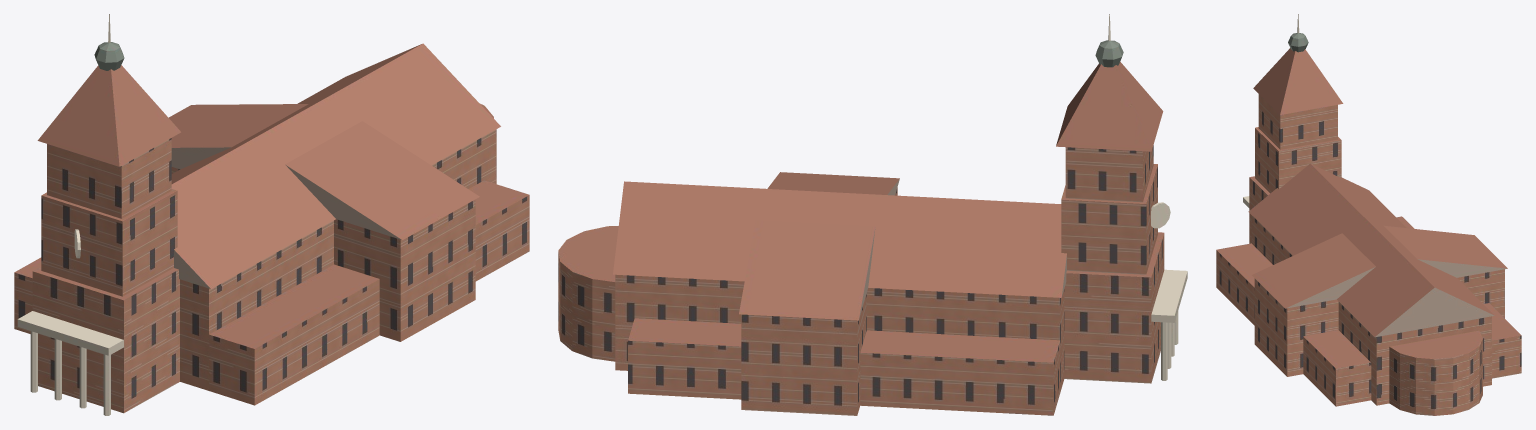
The model's file is lm_cathedrale.glb.
3 views of the same model, side by side, from view 1: azimuth 30°, elevation 25°; view 2: azimuth 150°, elevation 25°; view 3: azimuth 270°, elevation 25° (orthographic). The views are drawn at different scales.
Parts seen in each view (by area): view 1: LM_Cathedrale; view 2: LM_Cathedrale; view 3: LM_Cathedrale.
Part boxes in pixels (left/top/right/bottom): LM_Cathedrale: left=14, top=14, right=529, bottom=415; LM_Cathedrale: left=558, top=14, right=1187, bottom=415; LM_Cathedrale: left=1216, top=14, right=1521, bottom=415.
Size of the model in its own units: 0.35 by 0.2202 by 0.2478.
Materials: 1 (1 with a texture image).
